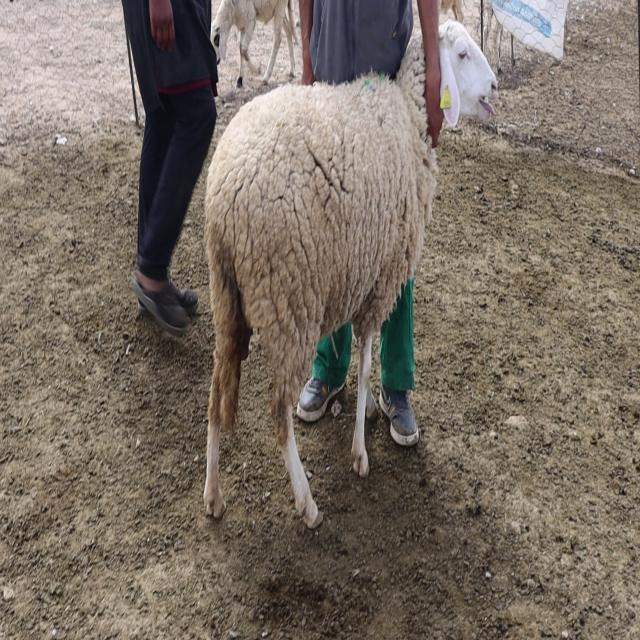Score_4: (203, 39, 438, 527)
